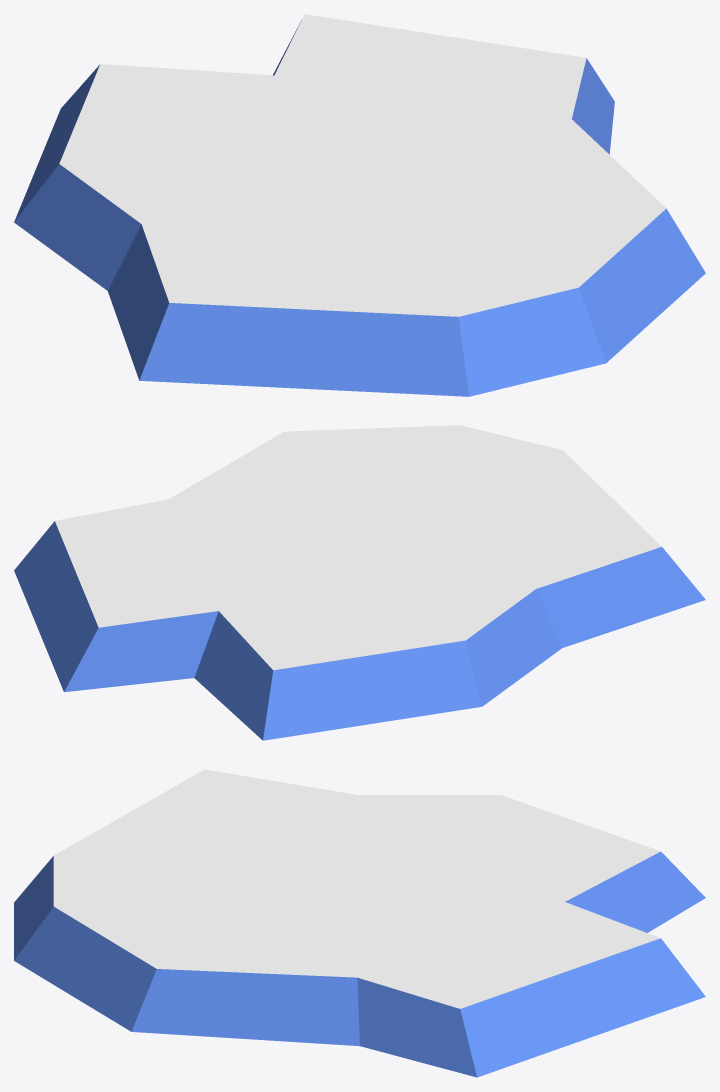
The model's file is Rock006.fbx.
The picture shows the model from 3 angles, top to bottom: view 1: azimuth 30°, elevation 25°; view 2: azimuth 150°, elevation 25°; view 3: azimuth 270°, elevation 25°; orthographic projection. The views are drawn at different scales.
Visible parts, largest first — view 1: Rock006; view 2: Rock006; view 3: Rock006.
Boxes of the visible parts, x1,y1,x2,y2 form: Rock006: (14, 14, 705, 396); Rock006: (14, 425, 705, 740); Rock006: (14, 769, 705, 1077).
Size of the model in its own units: 125 by 11.23 by 134.
